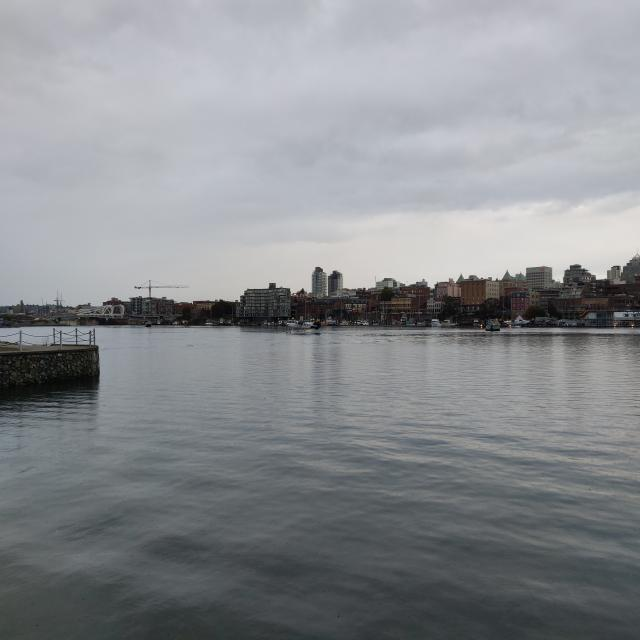aircraft: (286, 316, 321, 334), (500, 316, 535, 328)
boat: (485, 321, 501, 332), (144, 321, 152, 327)
